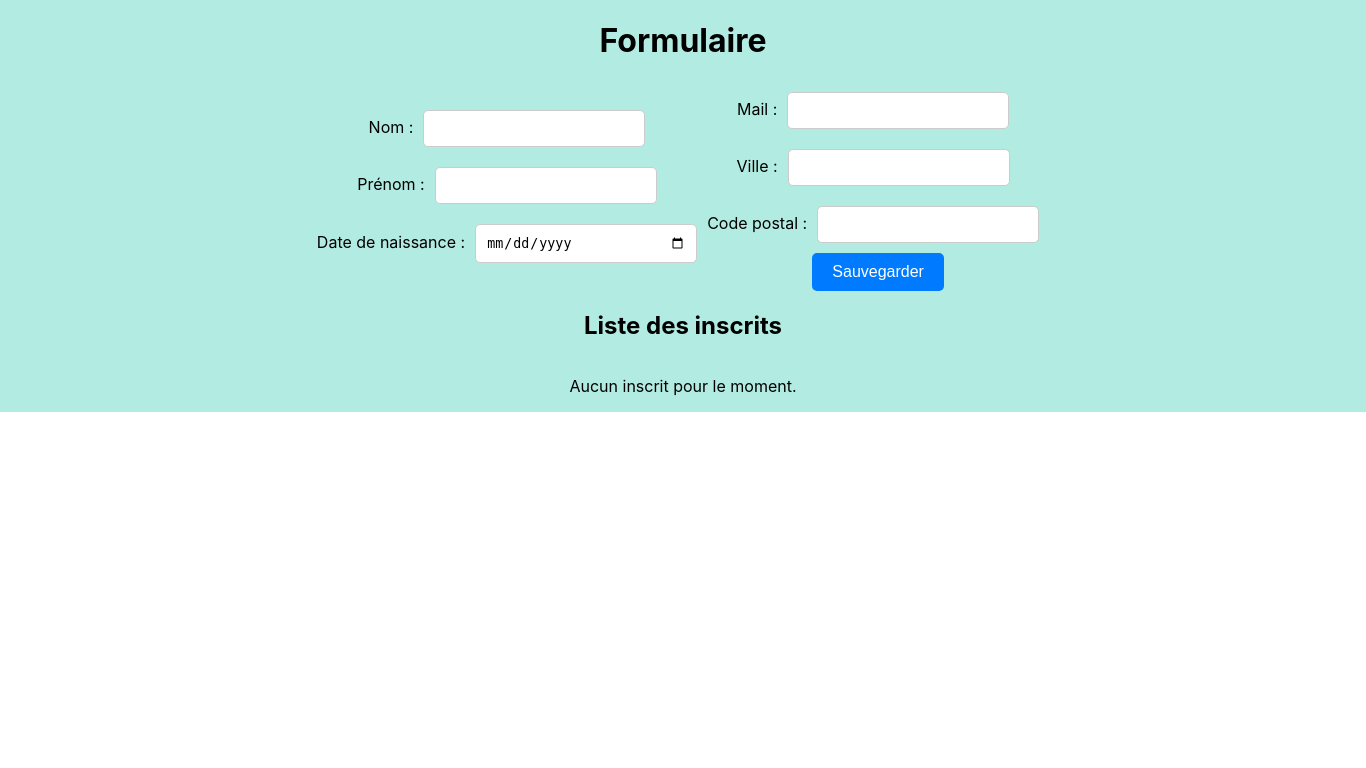
Form › creates a public user, clears fields and refreshes the public list
Expected: the text "Aucun inscrit pour le moment." is shown, x1=570 y1=376 x2=797 y2=396
Type "Martin" into the field labelled "Nom :". click: [534, 128]
box: x1=423 y1=110 x2=645 y2=147
Type "Claire" into the field labelled "Prénom :". click: [546, 185]
box: x1=435 y1=167 x2=657 y2=204
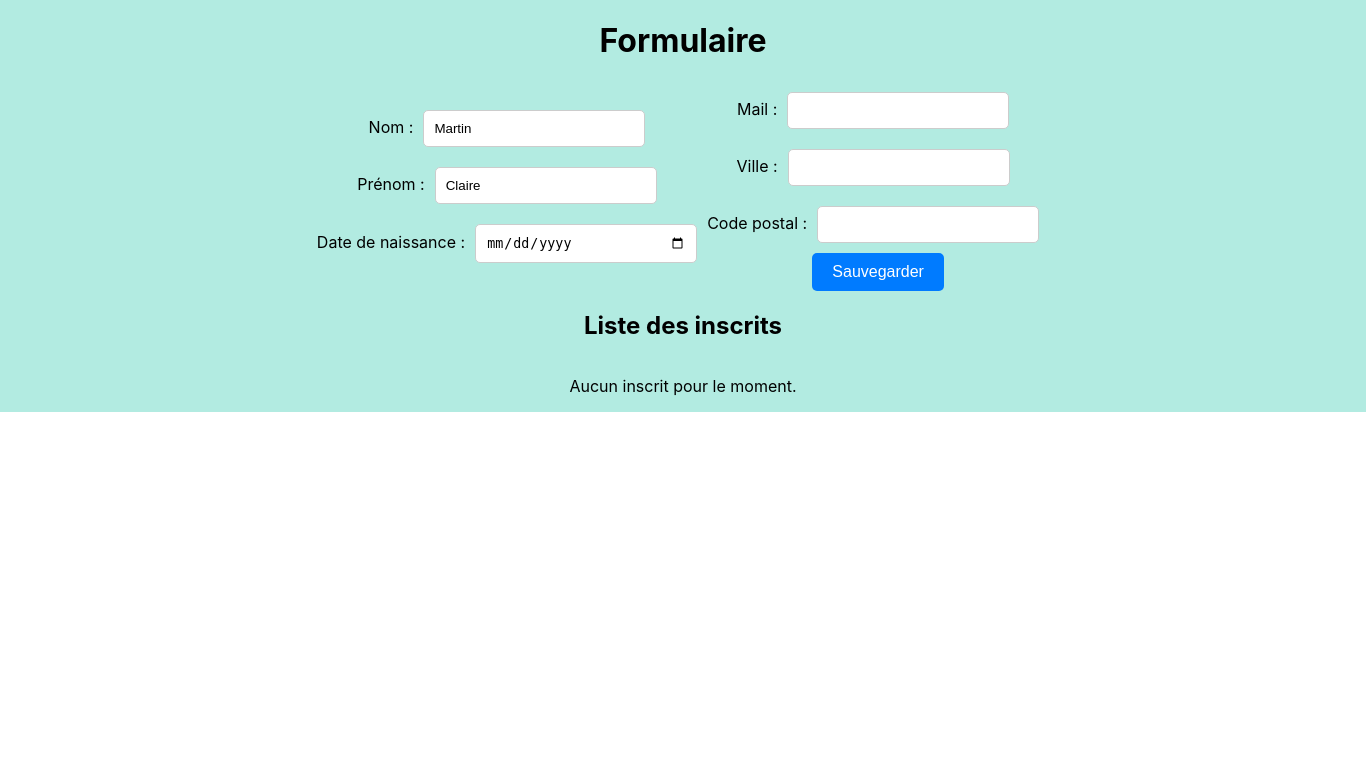
Type "1990-05-05" into the date field labelled "Date de naissance :". click: [586, 243]
box: x1=475 y1=224 x2=697 y2=263
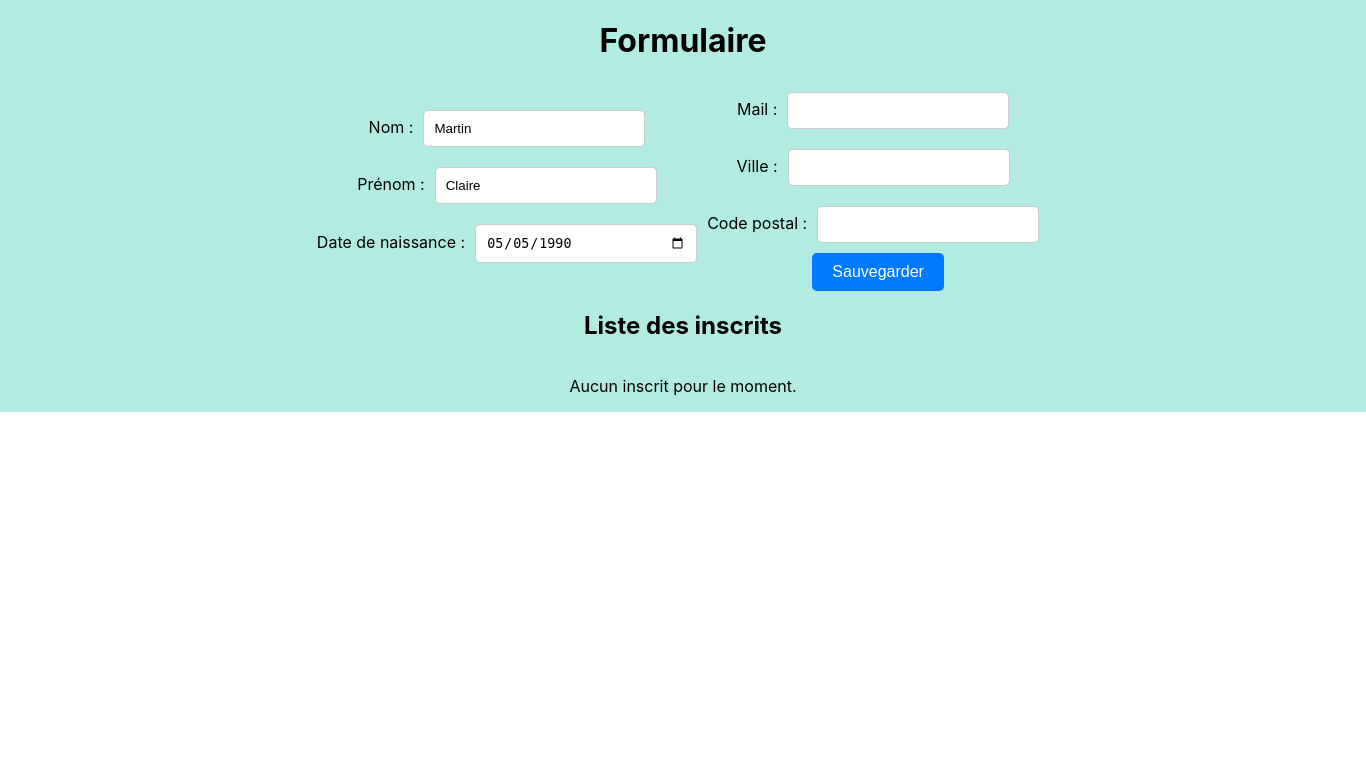
Type "claire@email.com" into the field labelled "Mail :". click: [898, 110]
box: x1=787 y1=92 x2=1009 y2=129
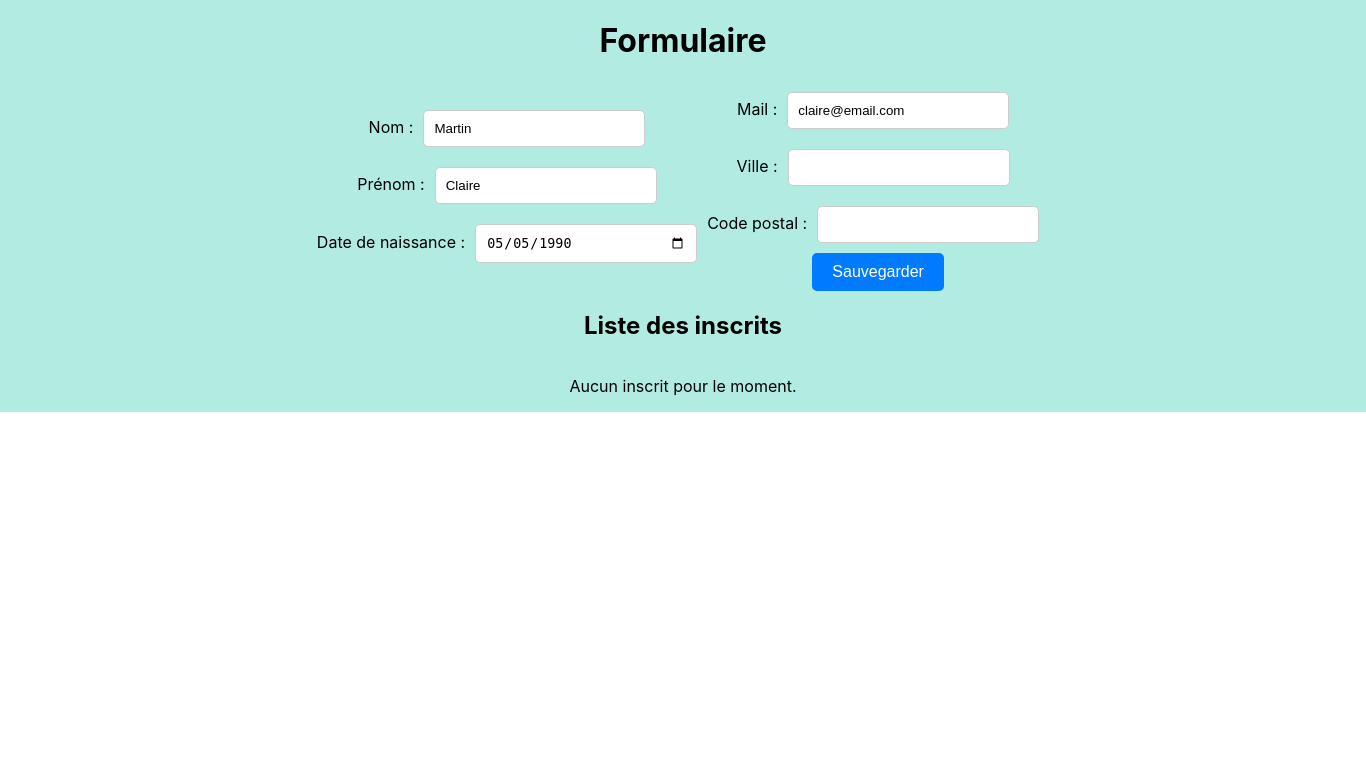
Type "Lyon" into the field labelled "Ville :". click: [899, 167]
box: x1=788 y1=149 x2=1010 y2=186
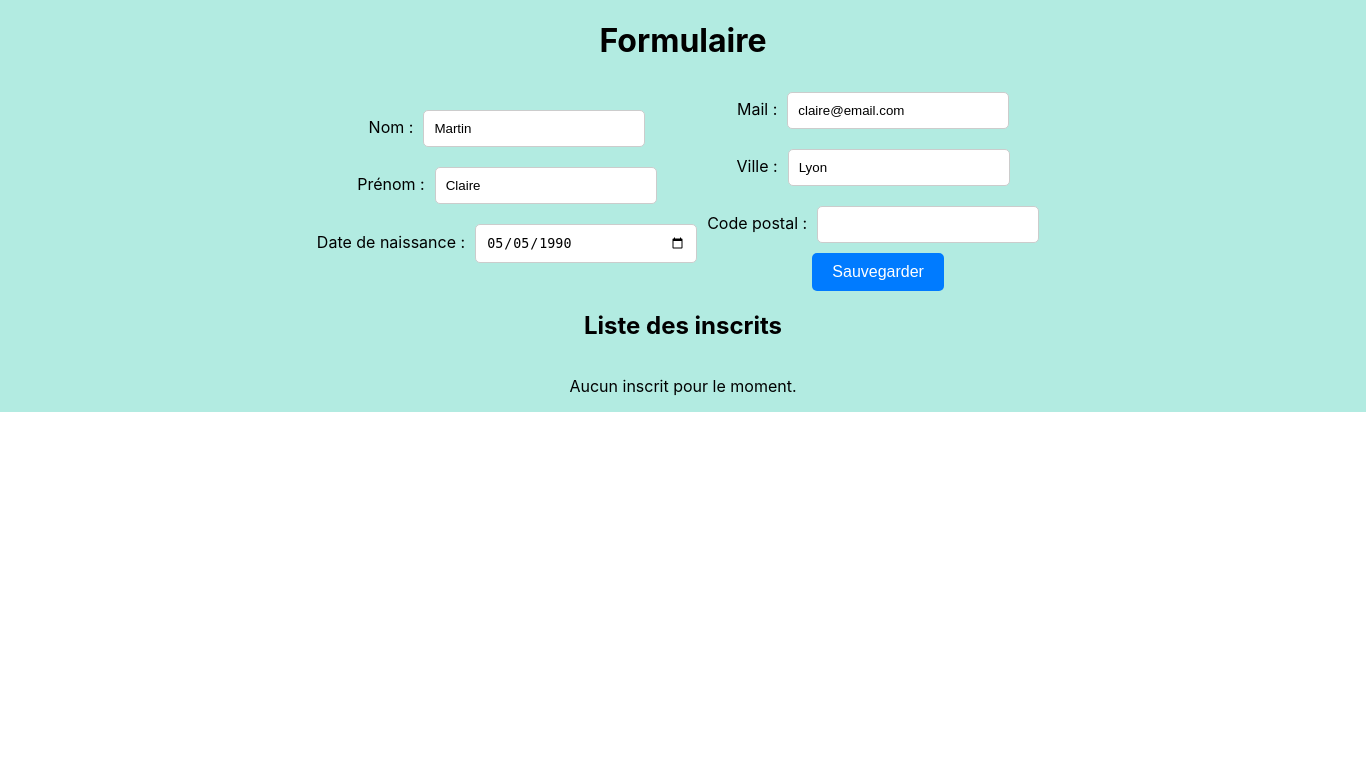
Type "69002" into the field labelled "Code postal :". click: [928, 224]
box: x1=817 y1=206 x2=1039 y2=243
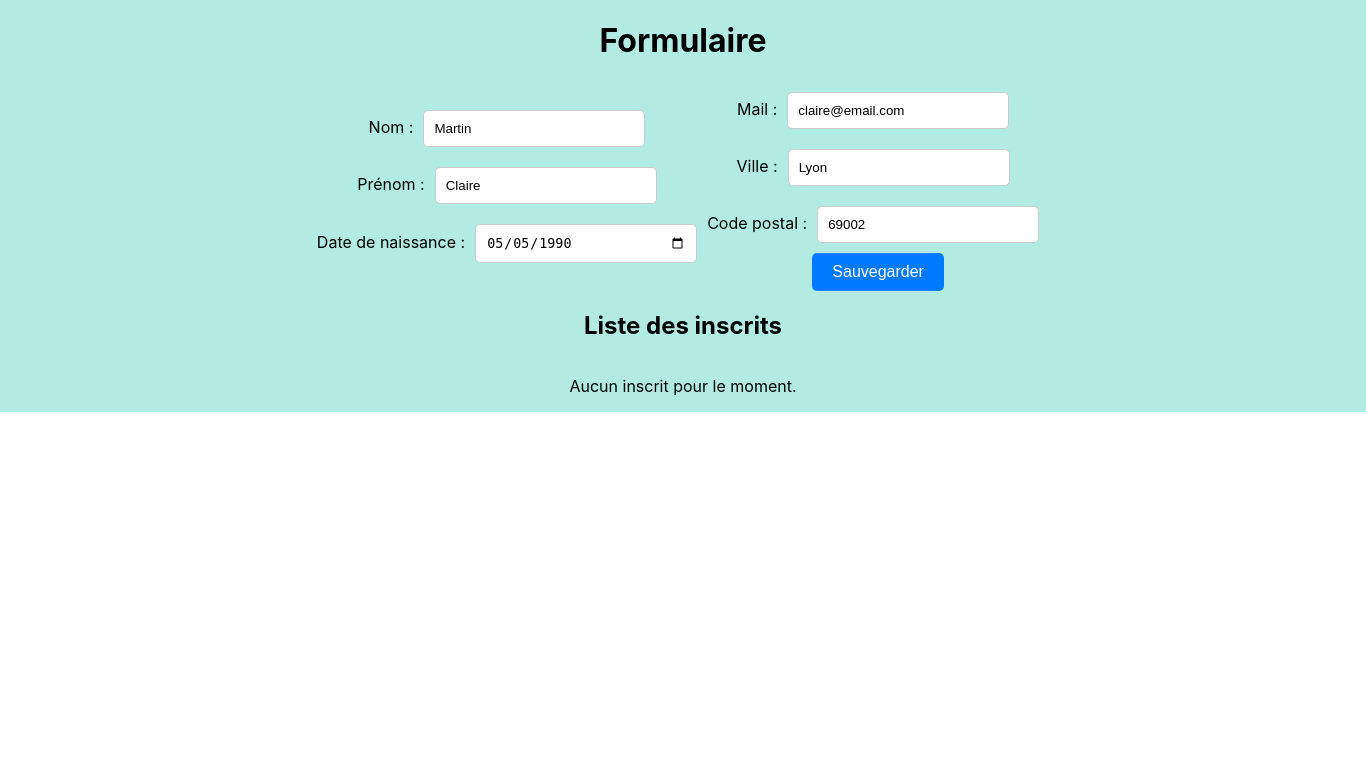
Click the button showing "sauvegarder". click: [878, 272]
box: x1=812 y1=253 x2=944 y2=291
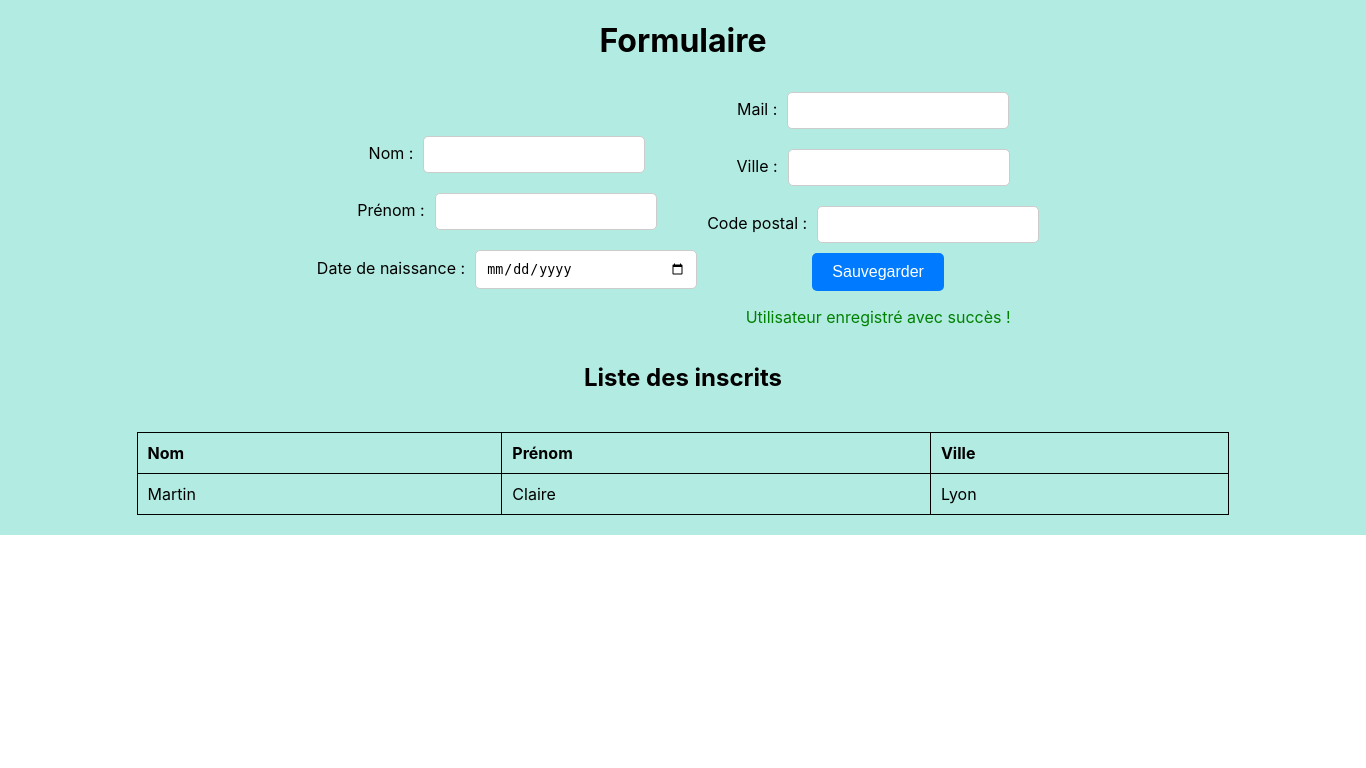
Expected: the message shows "Utilisateur enregistré avec succès", x1=746 y1=307 x2=1011 y2=327
Expected: the field labelled "Nom :" is empty, x1=423 y1=136 x2=645 y2=173
Expected: the field labelled "Prénom :" is empty, x1=435 y1=193 x2=657 y2=230
